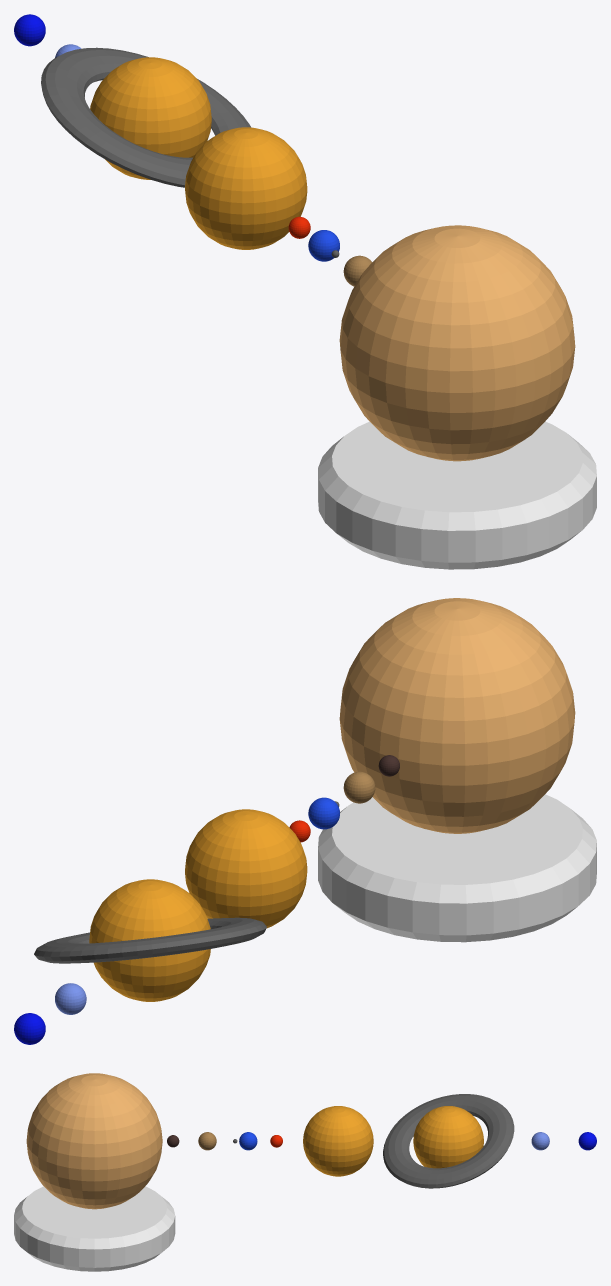
The model's file is Solar system.fbx.
The picture shows the model from 3 angles, top to bottom: view 1: azimuth 30°, elevation 25°; view 2: azimuth 150°, elevation 25°; view 3: azimuth 270°, elevation 25°; orthographic projection. The views are drawn at different scales.
Visible parts, largest first — view 1: Sun, Cylinder, Saturn, Jupiter, Neptun, Earth; view 2: Sun, Cylinder, Saturn, Jupiter, Venus, Earth, Uranus, Neptun; view 3: Sun, Cylinder, Saturn, Jupiter, Venus, Earth, Uranus, Neptun.
Boxes of the visible parts, <box> form: Sun: <box>339,225,575,461</box>; Cylinder: <box>318,421,596,569</box>; Saturn: <box>41,47,251,187</box>; Jupiter: <box>185,127,307,249</box>; Neptun: <box>14,14,45,46</box>; Earth: <box>308,230,339,261</box>; Sun: <box>339,598,575,833</box>; Cylinder: <box>318,794,596,942</box>; Saturn: <box>34,879,266,1001</box>; Jupiter: <box>185,809,307,928</box>; Venus: <box>343,771,375,803</box>; Earth: <box>308,797,339,829</box>; Uranus: <box>55,983,86,1014</box>; Neptun: <box>14,1013,45,1044</box>; Sun: <box>26,1073,162,1209</box>; Cylinder: <box>14,1186,175,1271</box>; Saturn: <box>383,1094,514,1188</box>; Jupiter: <box>303,1106,373,1176</box>; Venus: <box>198,1132,216,1150</box>; Earth: <box>239,1132,257,1150</box>; Uranus: <box>531,1132,549,1150</box>; Neptun: <box>578,1132,596,1150</box>.
Bounding box in the file's own units: 1753 × 1938 × 6338.
